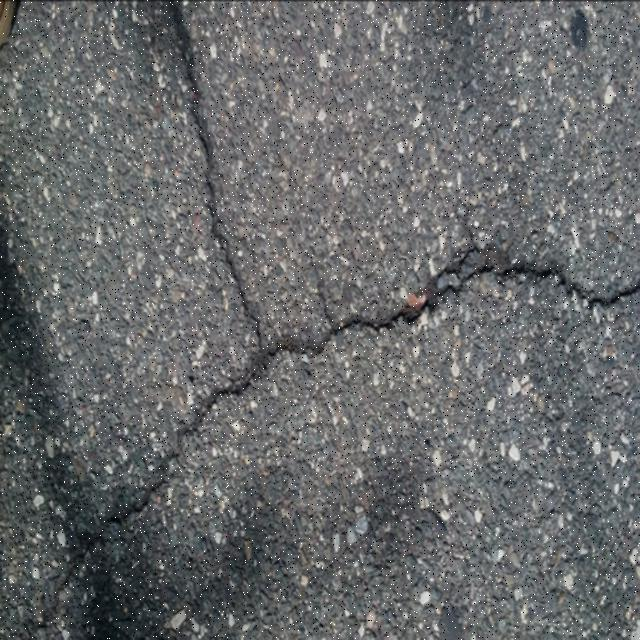Crack: (34, 0, 640, 635)
